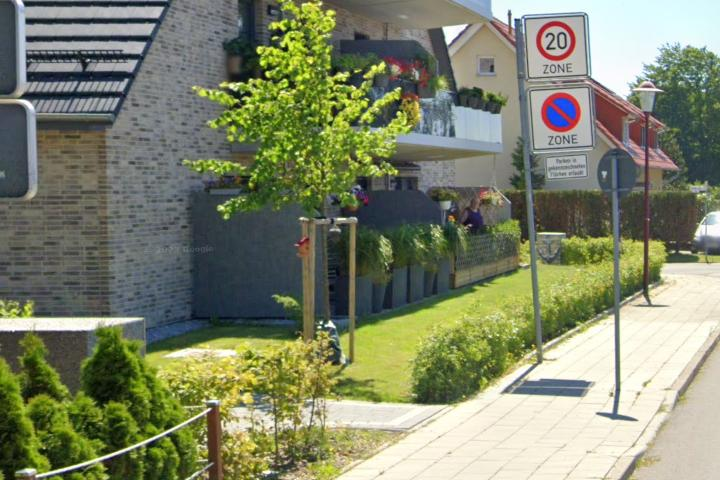traffic_sign: (540, 91, 583, 134), (535, 19, 577, 62)
